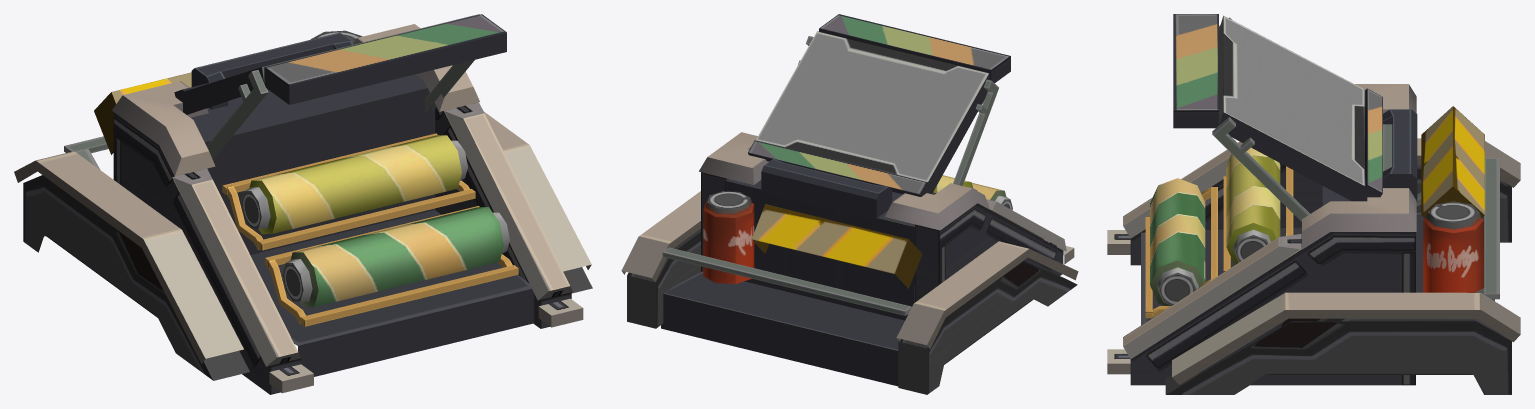
Rendered from trap_169_muruinb1.fbx.
The picture shows the model from 3 angles, left to right: view 1: azimuth 30°, elevation 25°; view 2: azimuth 150°, elevation 25°; view 3: azimuth 270°, elevation 25°; orthographic projection. The views are drawn at different scales.
Visible parts, largest first — view 1: trap_169_muruinb1; view 2: trap_169_muruinb1; view 3: trap_169_muruinb1.
Boxes of the visible parts, left/top/right/bottom form: trap_169_muruinb1: left=14, top=14, right=592, bottom=394; trap_169_muruinb1: left=621, top=14, right=1078, bottom=394; trap_169_muruinb1: left=1107, top=14, right=1520, bottom=394.
Bounding box in the file's own units: 0.9715 × 0.6772 × 0.9896.
1 material, 1 textured.
